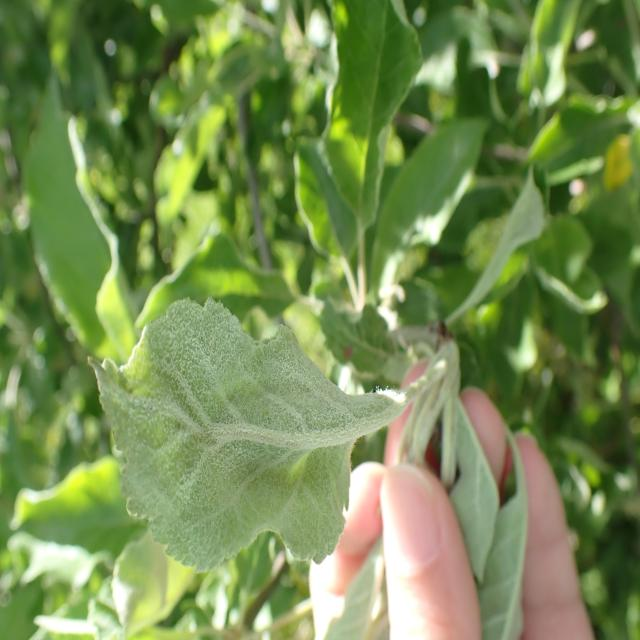Powdery_mildew: (72, 274, 378, 574)
